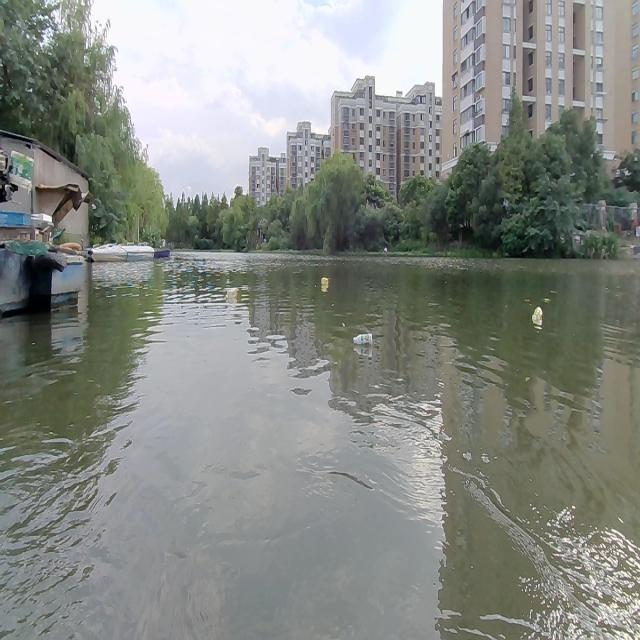bottle: (351, 329, 373, 346), (532, 303, 544, 326), (225, 286, 237, 302), (319, 276, 327, 287)
